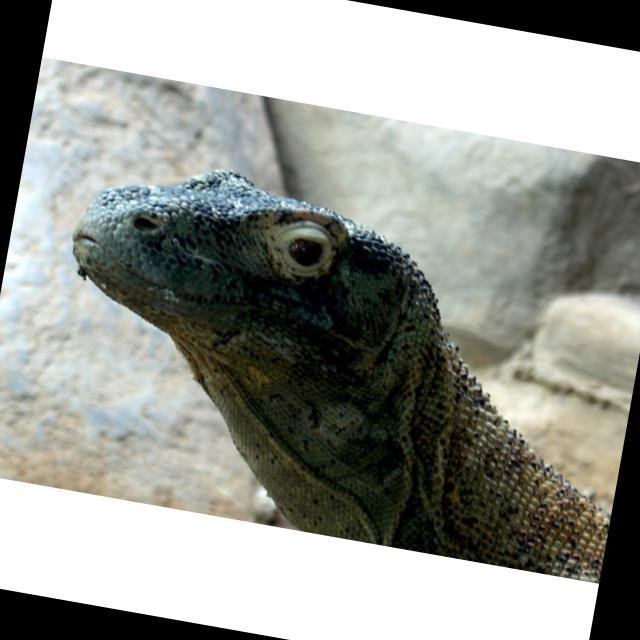KomodoDragon: (31, 143, 640, 581)
